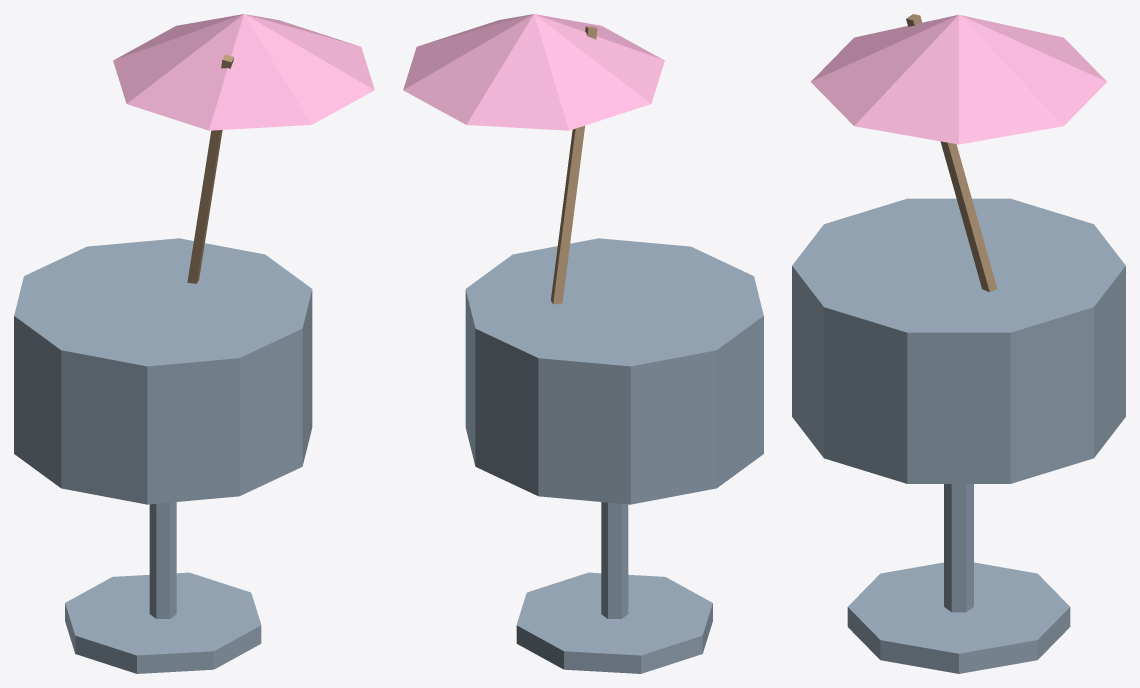
The model's file is cocktail.glb.
The picture shows the model from 3 angles, left to right: view 1: azimuth 30°, elevation 25°; view 2: azimuth 150°, elevation 25°; view 3: azimuth 270°, elevation 25°; orthographic projection. The views are drawn at different scales.
Parts seen in each view (by area): view 1: cocktail; view 2: cocktail; view 3: cocktail.
Part boxes in pixels (x1,y1,x2,y2): cocktail: (14, 14, 374, 673); cocktail: (403, 14, 763, 673); cocktail: (792, 14, 1125, 673).
Bounding box in the file's own units: 0.2206 × 0.39 × 0.18.
